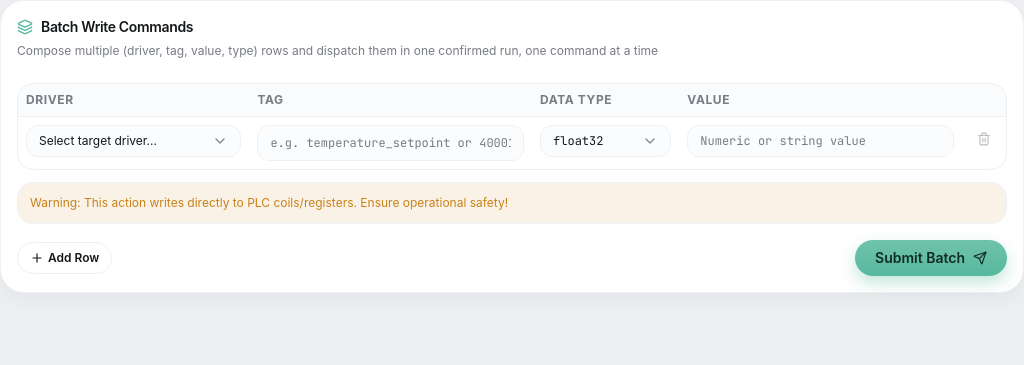
Test: BatchWritePanel › renders one empty row and adds/removes rows
The width and height of the screenshot is (1024, 365).
Expected: the text "Batch Write Commands" is shown, [41,17,193,37]
Expected: the number of buttons named "Remove row" is 1, [970,125,998,153]
Click the button "Add Row" at (65, 258), box [17,242,112,274]
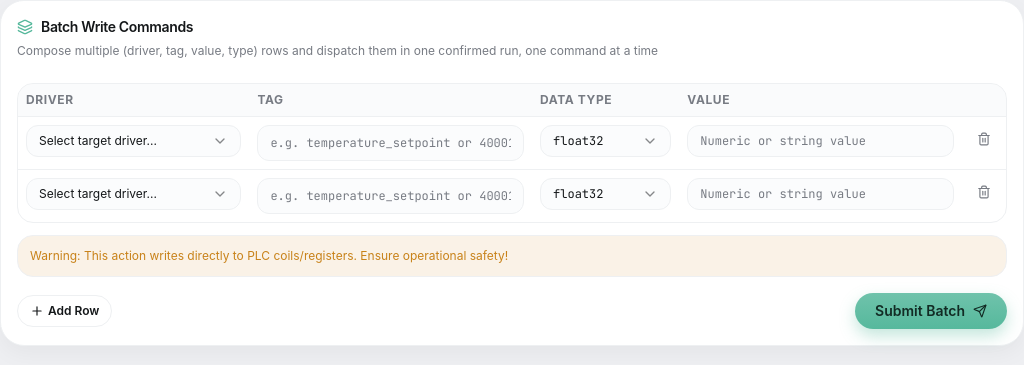
Expected: the number of buttons named "Remove row" is 2
Click the 2nd button named "Remove row" at (984, 192), box [970,178,998,206]
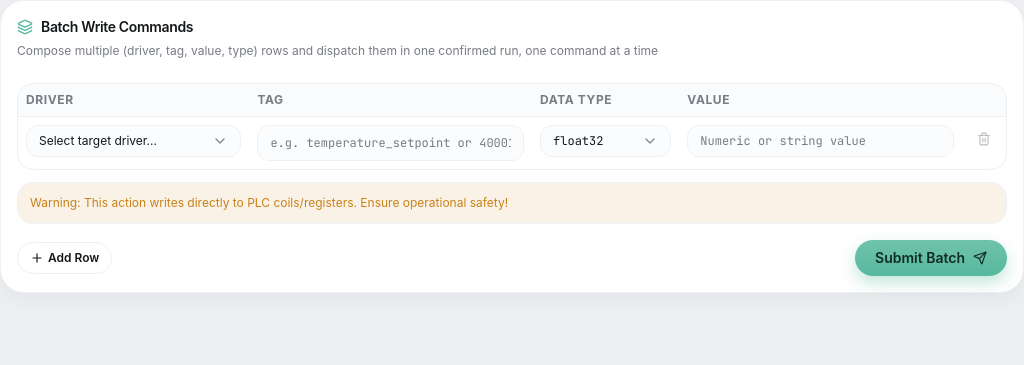
Expected: the number of buttons named "Remove row" is 1, [970,125,998,153]
